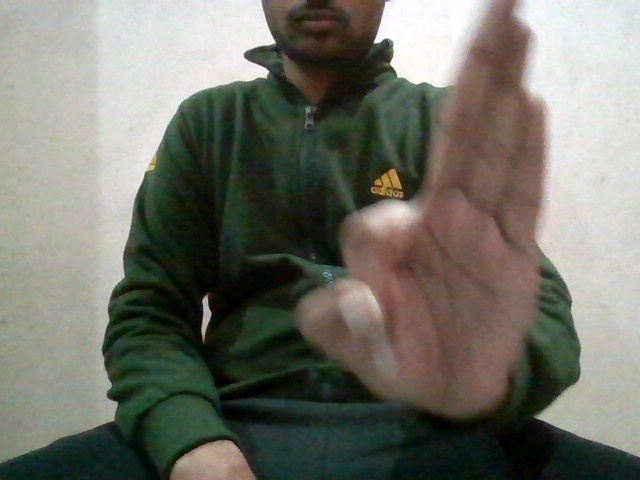F: (324, 1, 546, 413)
